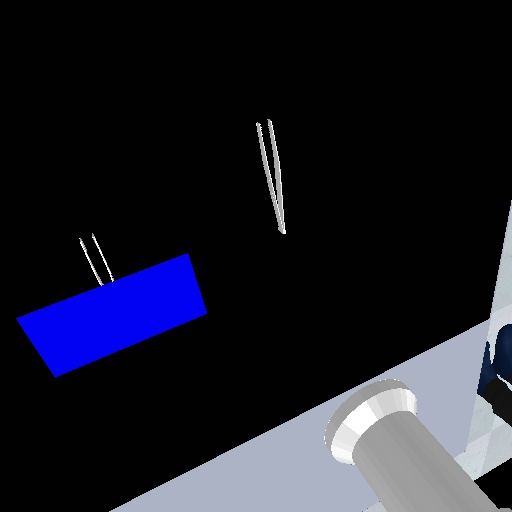pinza: (250, 113, 292, 238), (74, 230, 117, 290)
